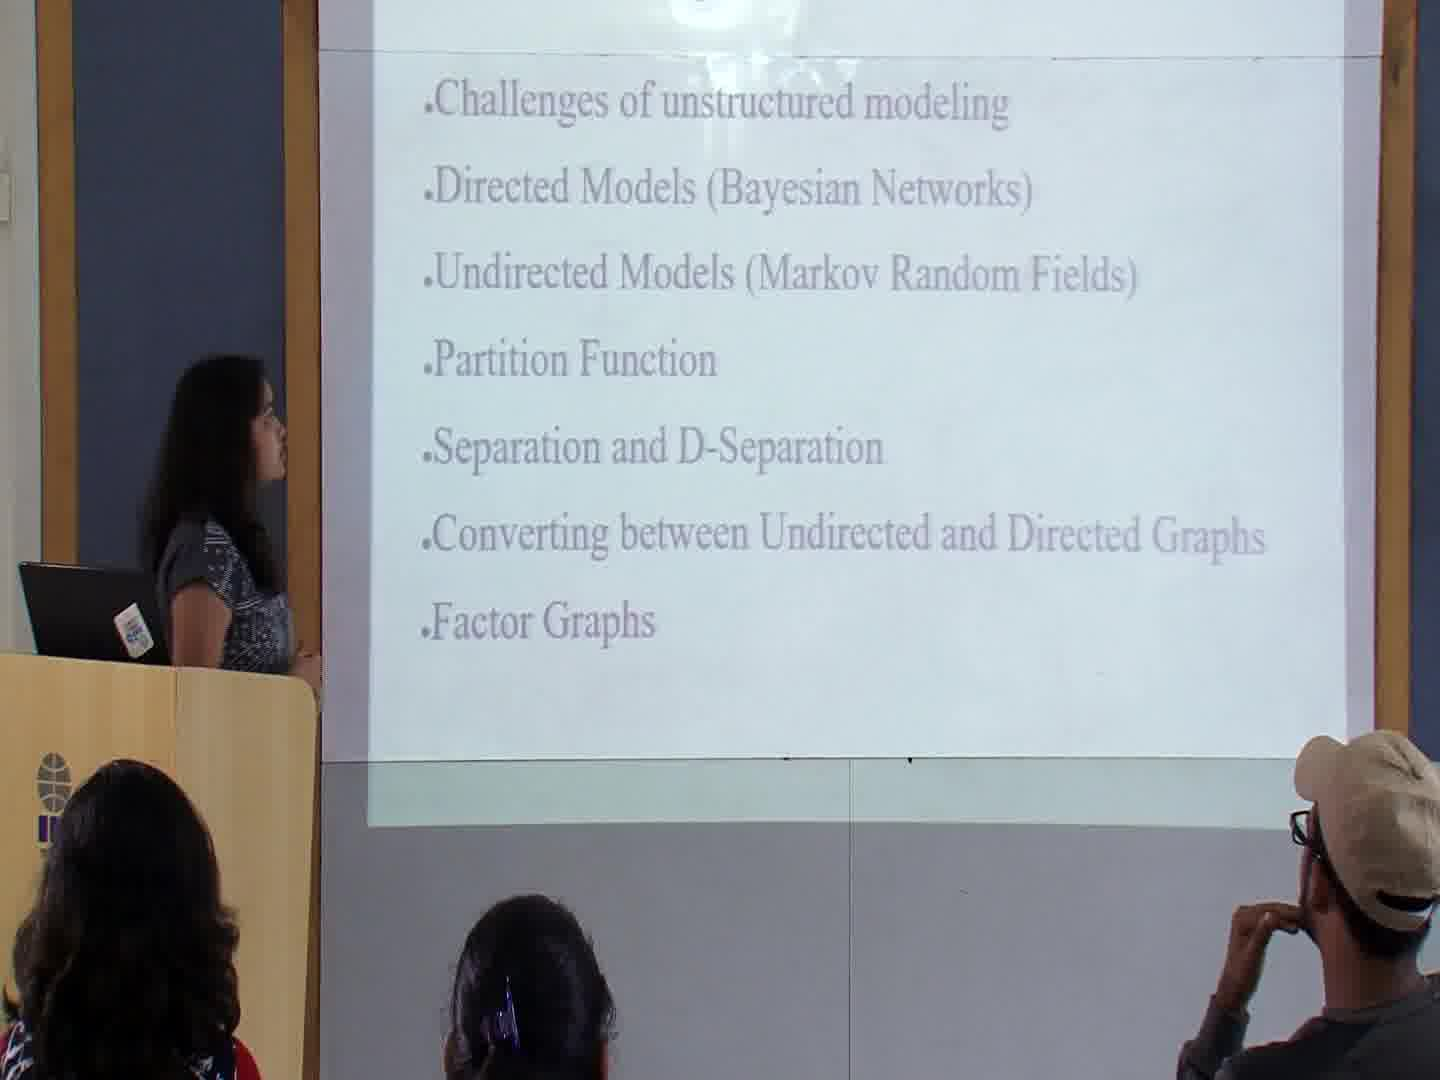slide: (372, 2, 1345, 832)
